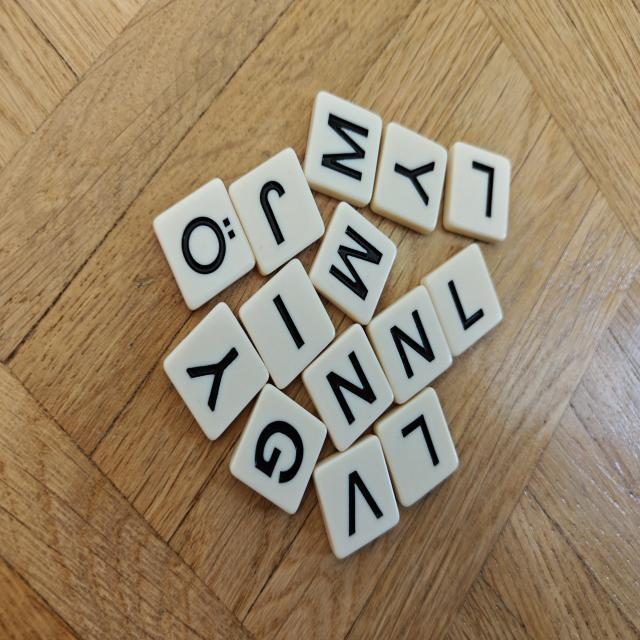g: (230, 384, 327, 514)
i: (239, 259, 335, 389)
j: (229, 148, 324, 275)
l: (374, 387, 458, 506), (421, 244, 502, 355), (443, 142, 511, 242)
m: (309, 202, 397, 325), (303, 91, 382, 207)
n: (302, 324, 393, 451), (366, 285, 452, 403)
o_dot: (153, 178, 255, 310)
v: (313, 435, 399, 558)
y: (164, 303, 269, 440), (370, 123, 447, 233)
